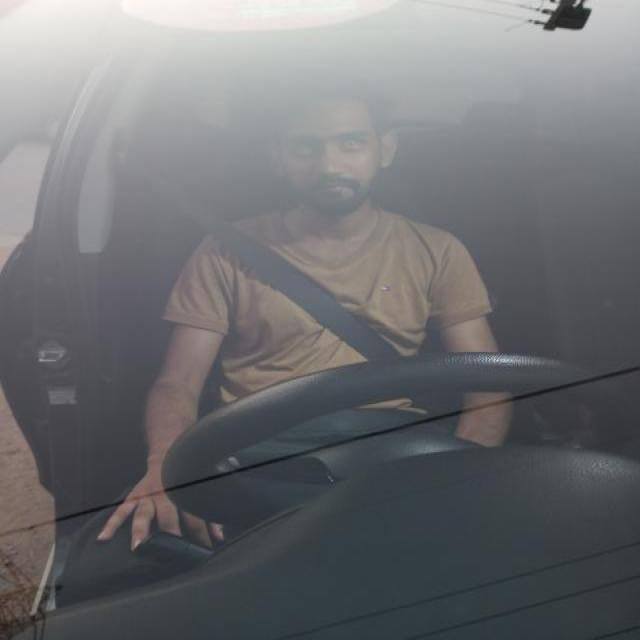seatbelt: (131, 144, 553, 428)
